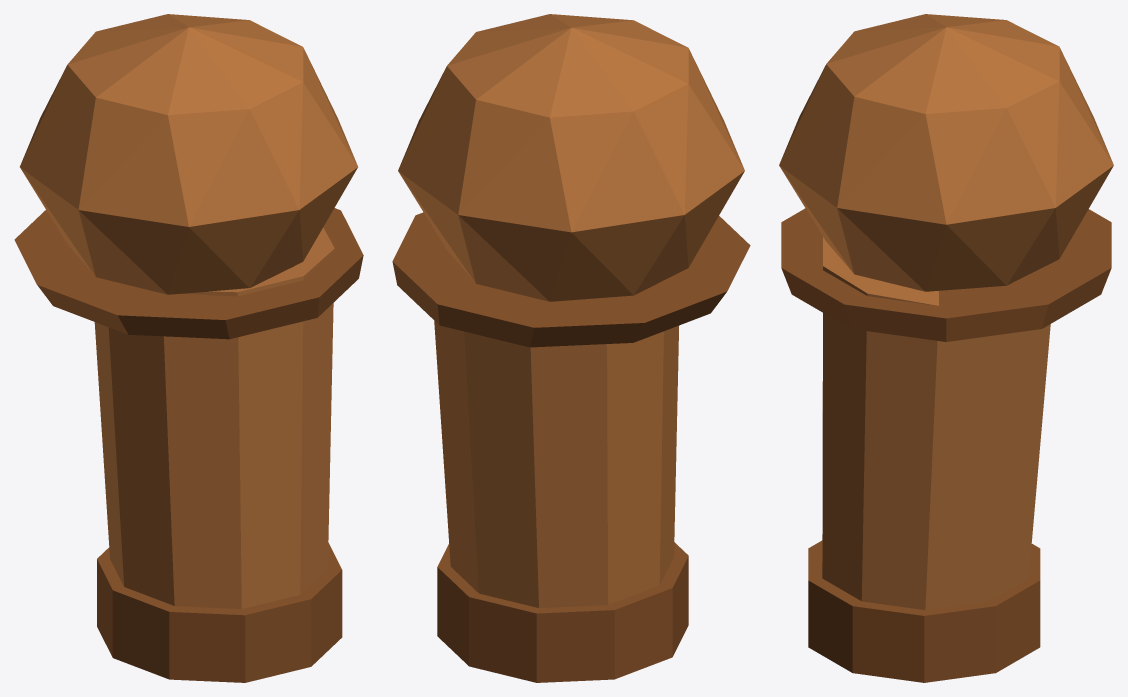
The model's file is gear_bronze_body_arm_r.glb.
The picture shows the model from 3 angles, left to right: view 1: azimuth 30°, elevation 25°; view 2: azimuth 150°, elevation 25°; view 3: azimuth 270°, elevation 25°; orthographic projection. The views are drawn at different scales.
Parts seen in each view (by area): view 1: gear_bronze_body_arm_r; view 2: gear_bronze_body_arm_r; view 3: gear_bronze_body_arm_r.
Boxes of the visible parts, x1,y1,x2,y2 form: gear_bronze_body_arm_r: [14, 14, 363, 682]; gear_bronze_body_arm_r: [392, 14, 750, 682]; gear_bronze_body_arm_r: [779, 14, 1113, 682].
Size of the model in its own units: 0.188 by 0.355 by 0.1812.
